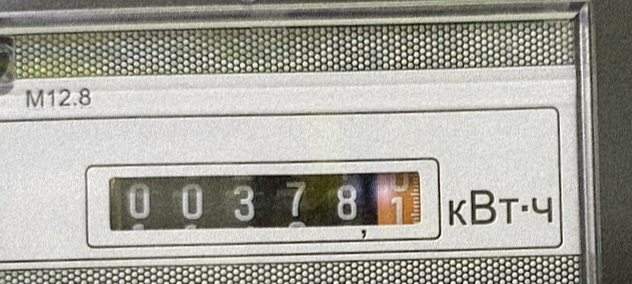0: (123, 182, 151, 223), (176, 184, 201, 223), (385, 173, 407, 195)
1: (384, 196, 404, 228)
3: (227, 185, 254, 226)
7: (280, 181, 304, 220)
8: (331, 184, 356, 225)
screen: (84, 150, 438, 249)
